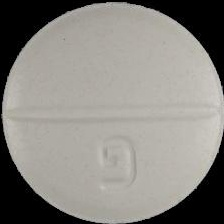68462-224: (0, 0, 224, 224)
